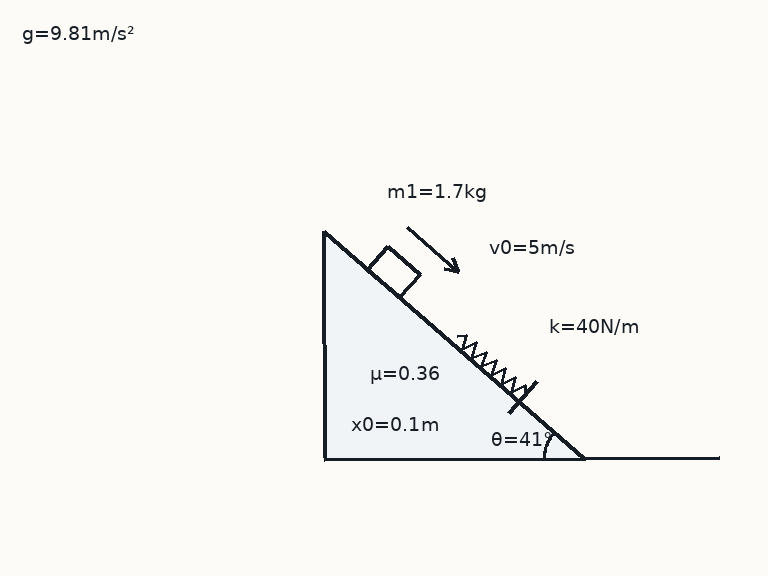block: (366, 245, 421, 299)
ramp: (322, 230, 586, 460)
spring: (455, 333, 527, 397)
